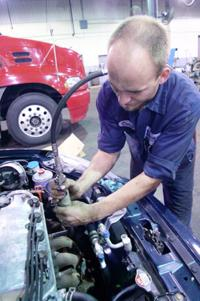person: (48, 14, 200, 240)
